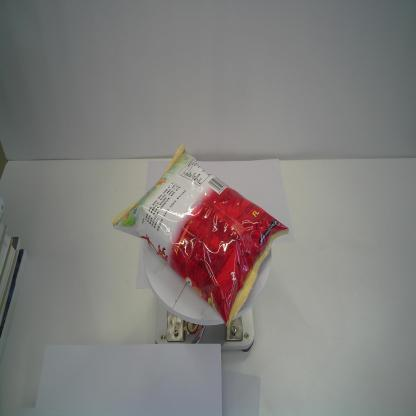Puffed Food: (110, 144, 289, 329)
